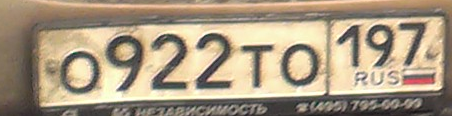character: (146, 25, 189, 95), (189, 28, 235, 90), (103, 28, 145, 94), (58, 47, 102, 98), (278, 40, 319, 91), (238, 40, 277, 91), (332, 19, 364, 70), (366, 21, 395, 73), (397, 20, 428, 68)
